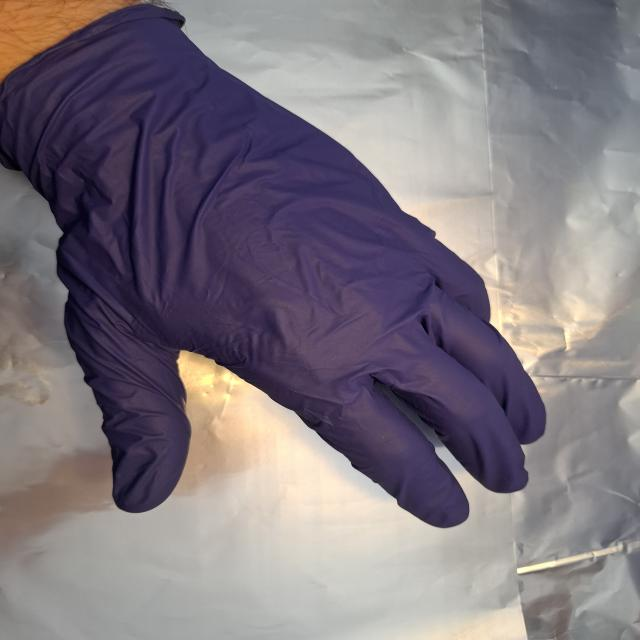glove_on: (8, 3, 554, 530)
